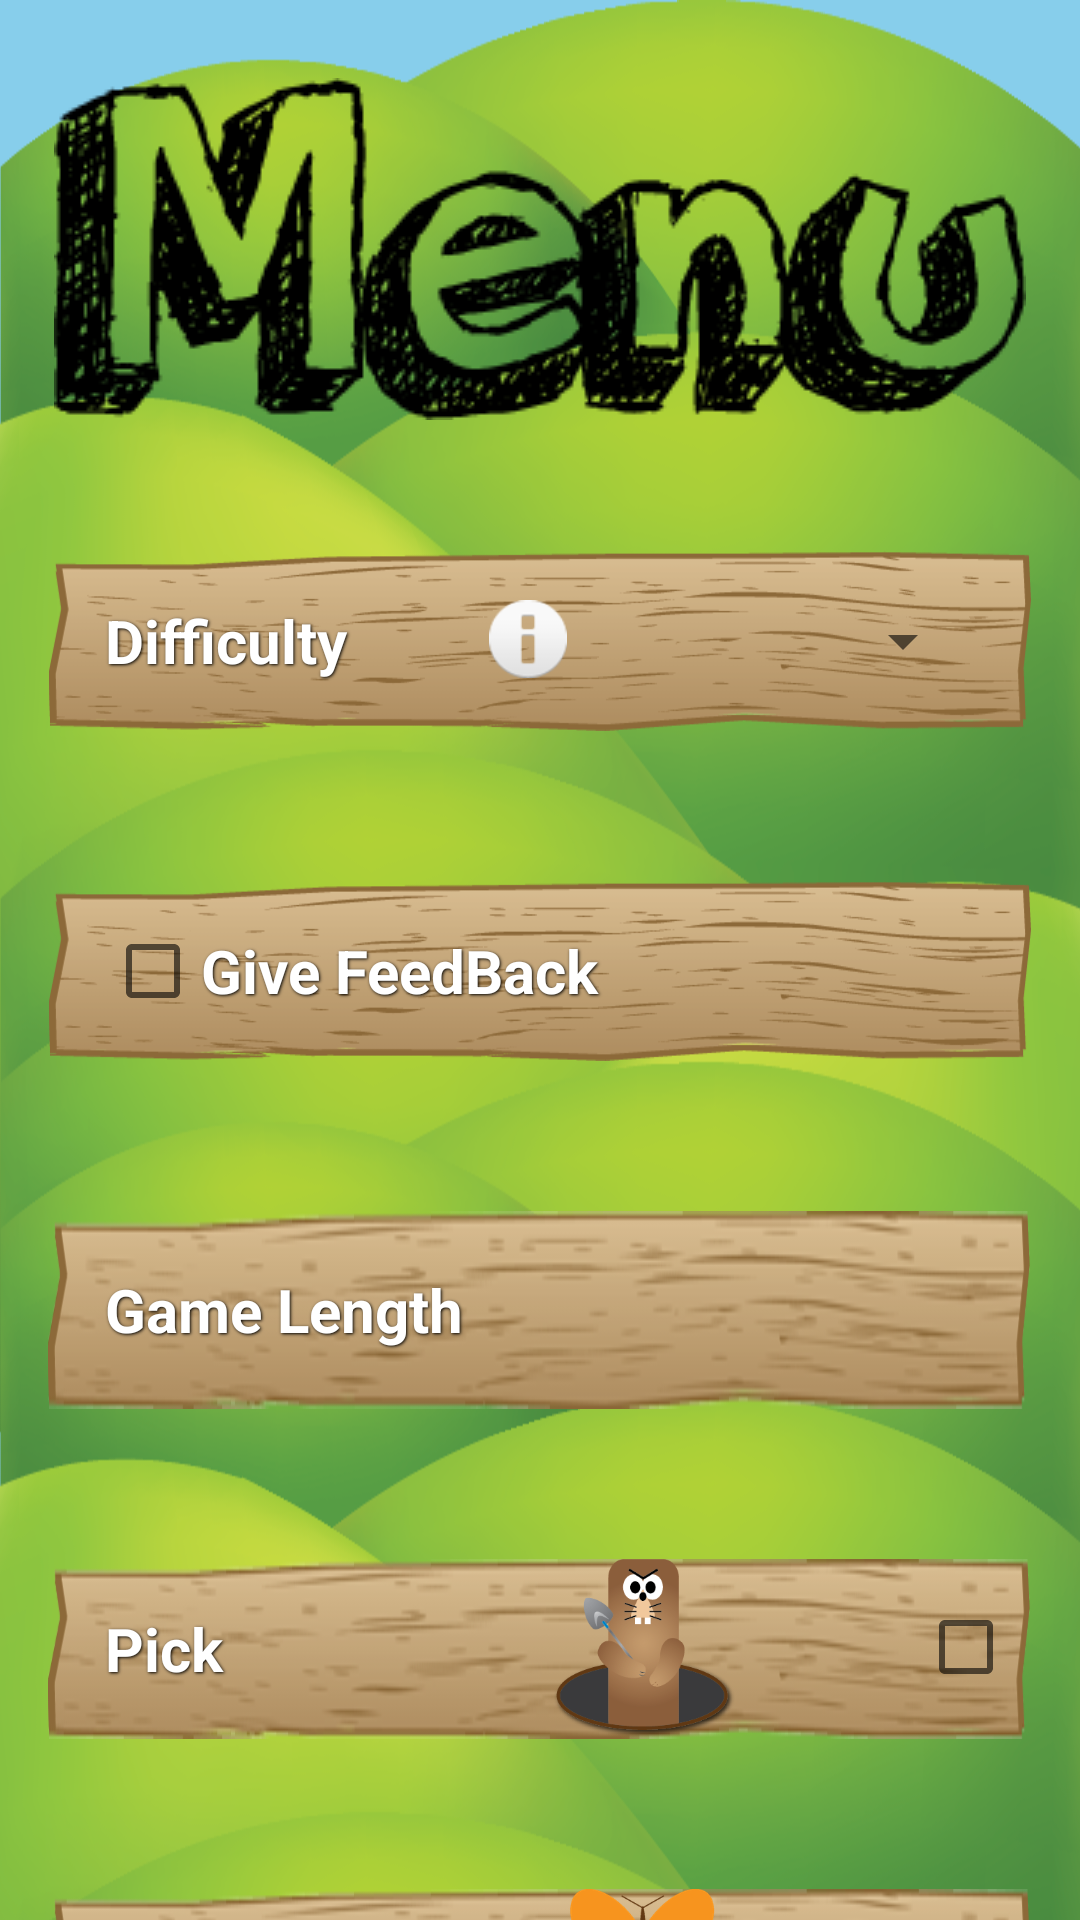

Screen size 1080 x 1920. Icon name, then its box in pixels as bbox=(x1, y1, x2, y2):
info: bbox=(489, 600, 567, 678)
